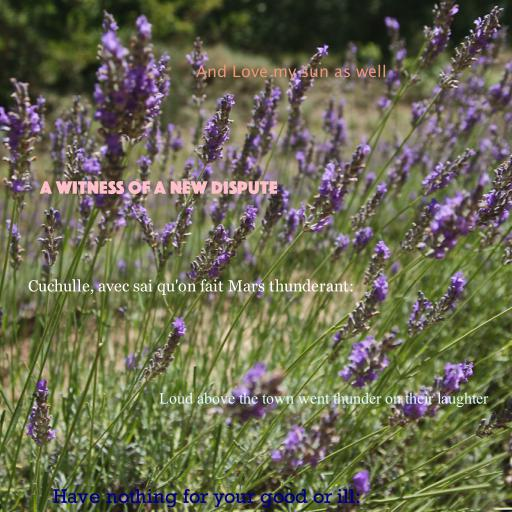Georgia: (28, 279, 354, 295)
Lucida Grande: (195, 64, 387, 81)
Phosphate: (40, 180, 278, 195)
Rockwell: (53, 488, 361, 508)
Times New Roman: (158, 392, 488, 408)
